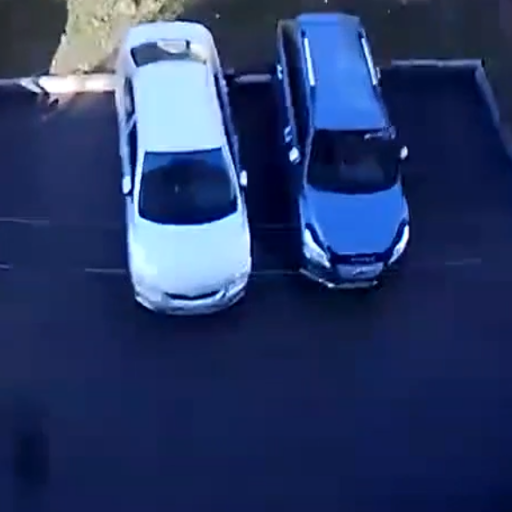Car: (112, 21, 251, 317), (271, 8, 412, 291)
